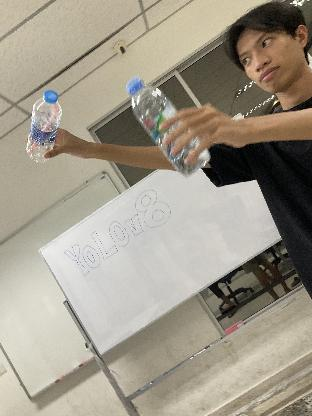Plastic Bottle: (125, 76, 211, 178), (26, 91, 62, 164)
